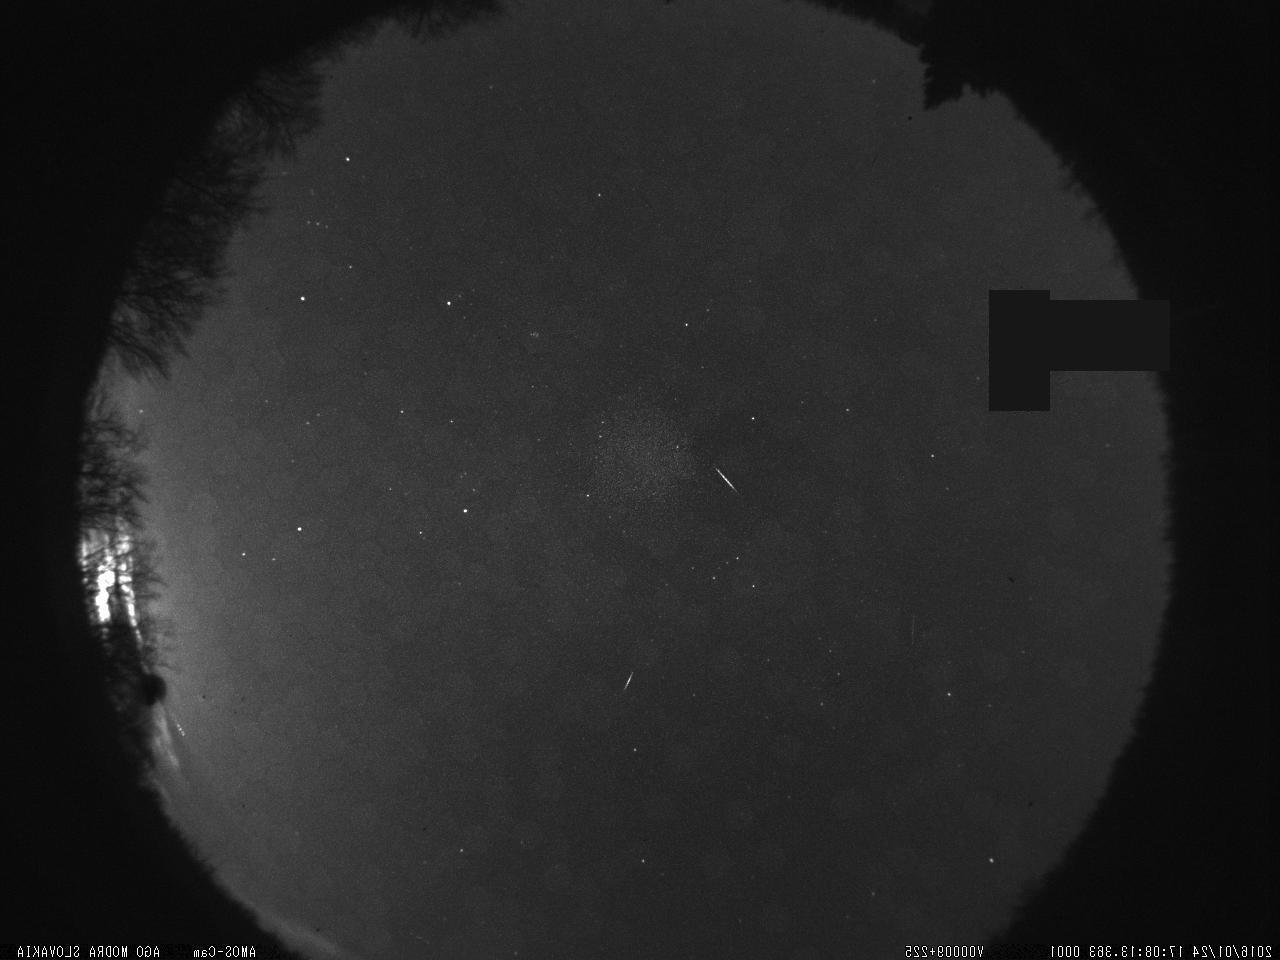meteor: (694, 455, 759, 510)
